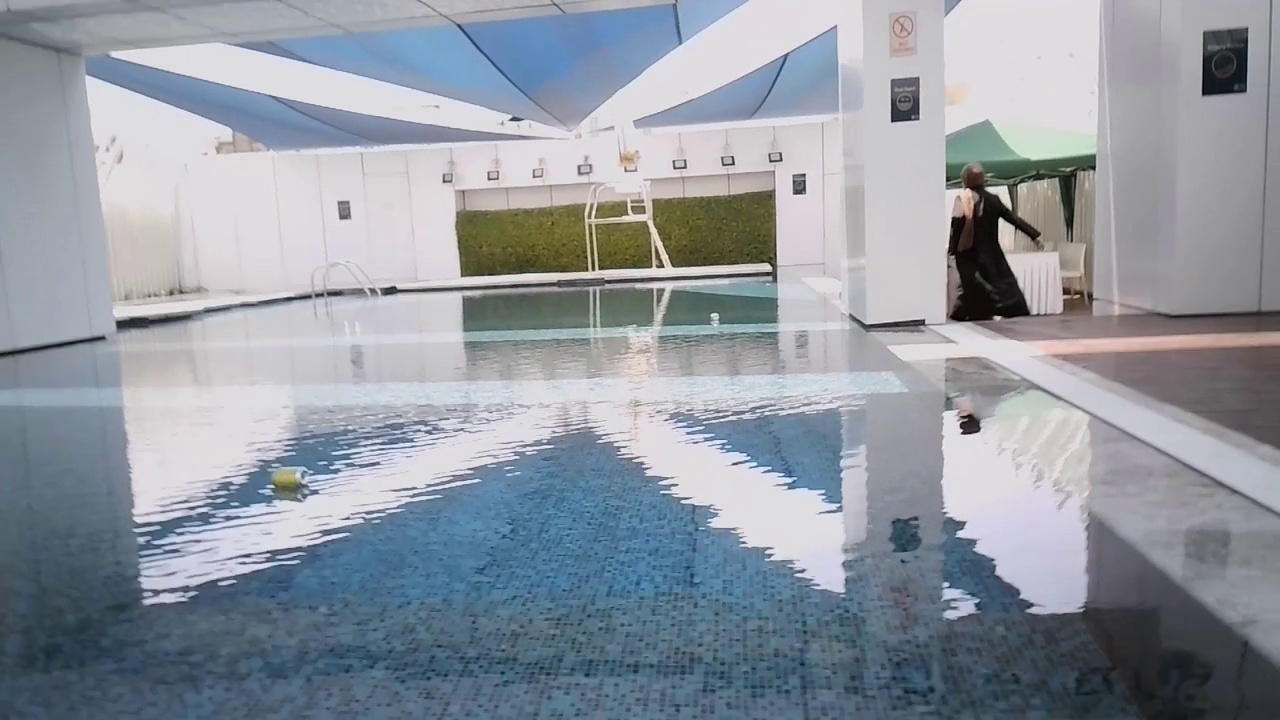debris: (268, 464, 312, 490), (708, 309, 721, 322)
